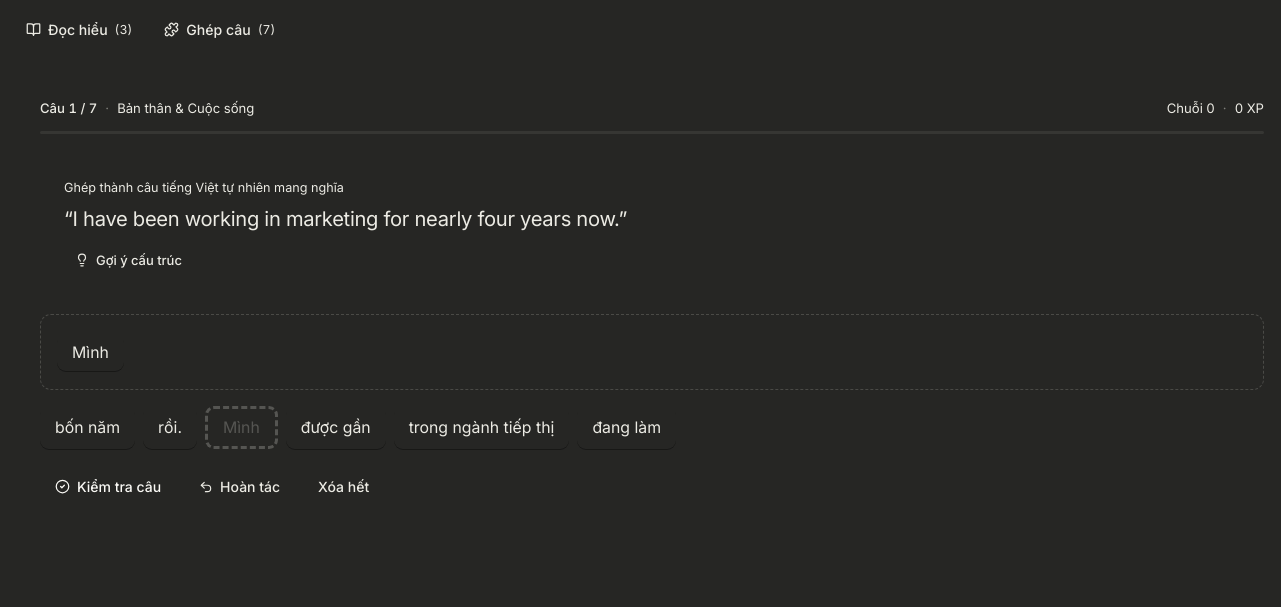
Test case: ReadingVocabGame › assembles Vietnamese sentences in Sentence Builder Sprint and completes round
Earlier steps of the test are not shown.
Later steps or results of the test are not shown.
Click the button "đang làm" at (627, 428), box [577,406,676,449]
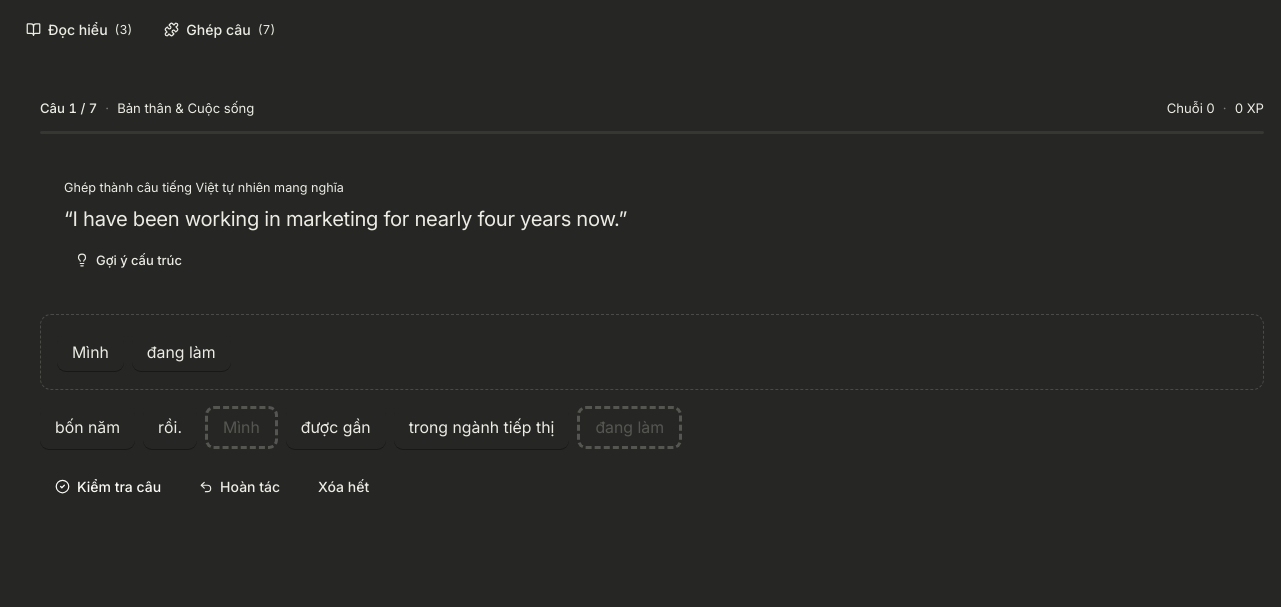
Click the button "trong ngành tiếp thị" at (482, 428), box [394,406,569,449]
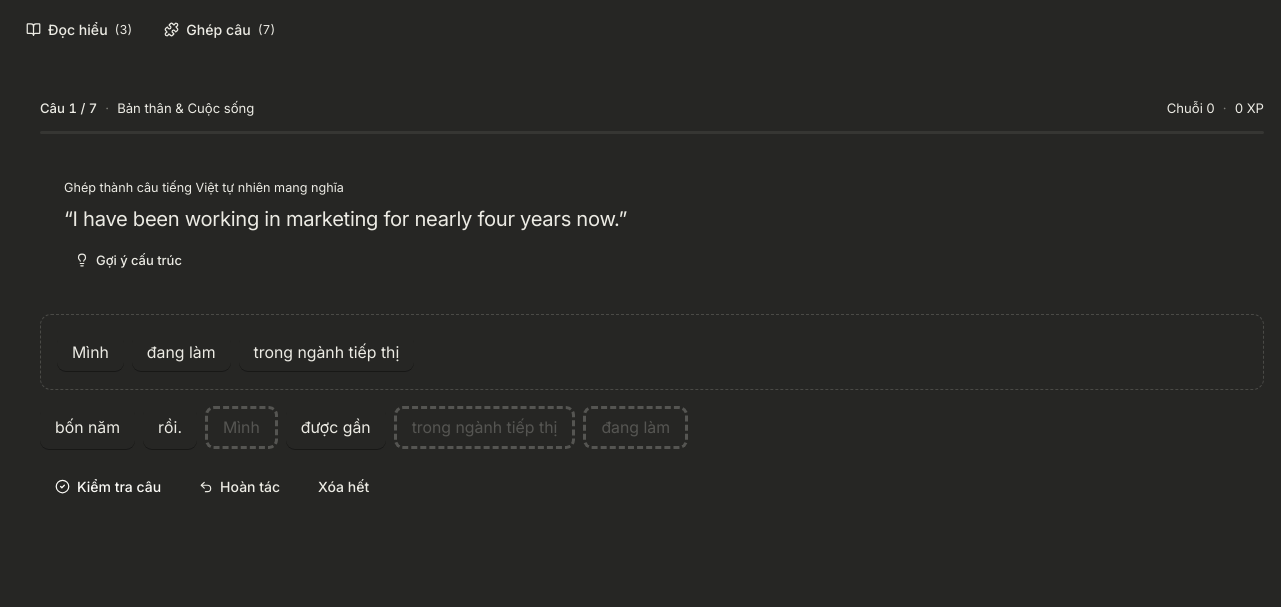
Click the button "được gần" at (336, 428), box [286,406,386,449]
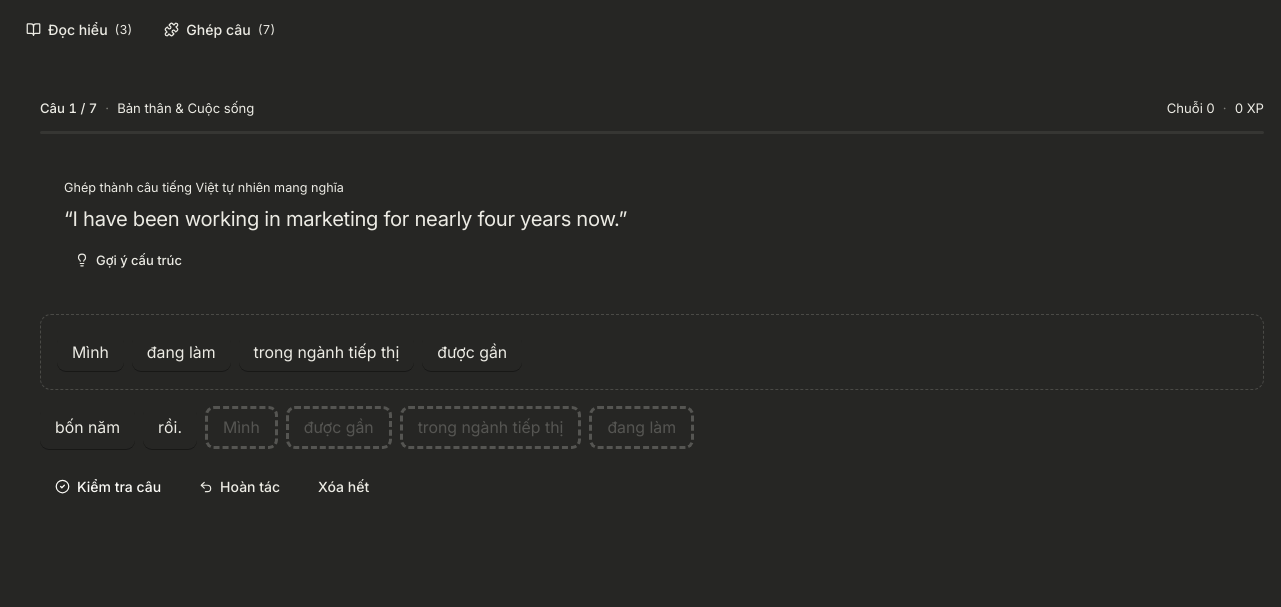
Click the button "bốn năm" at (88, 428), box [40,406,135,449]
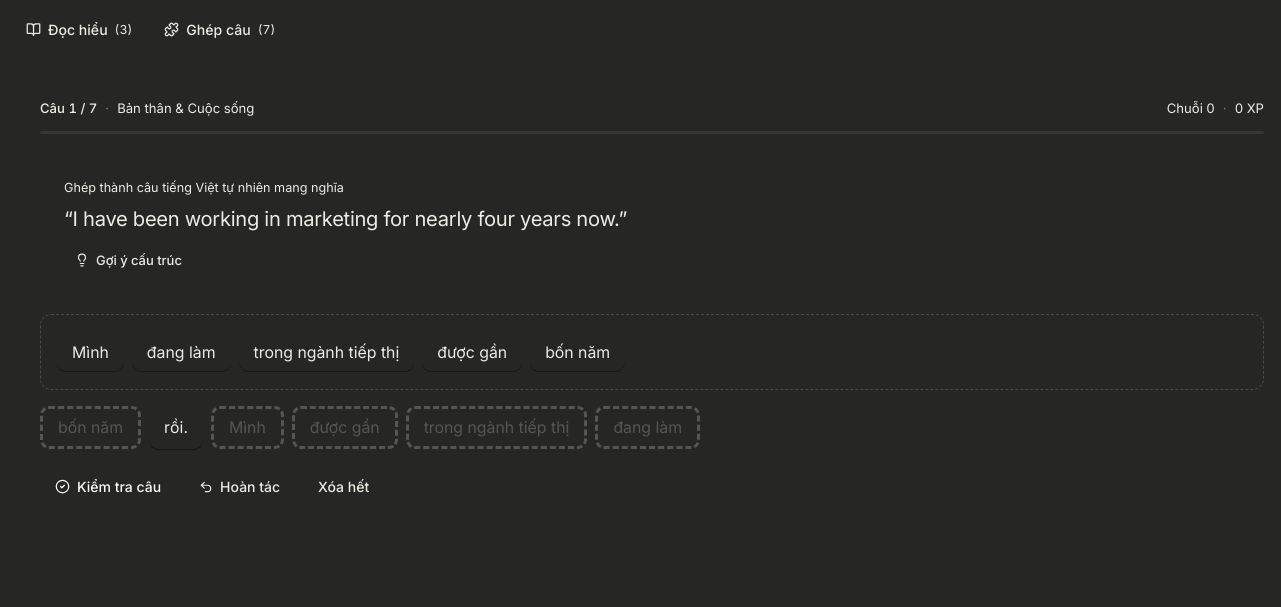
Click the button "rồi." at (176, 428), box [149,406,203,449]
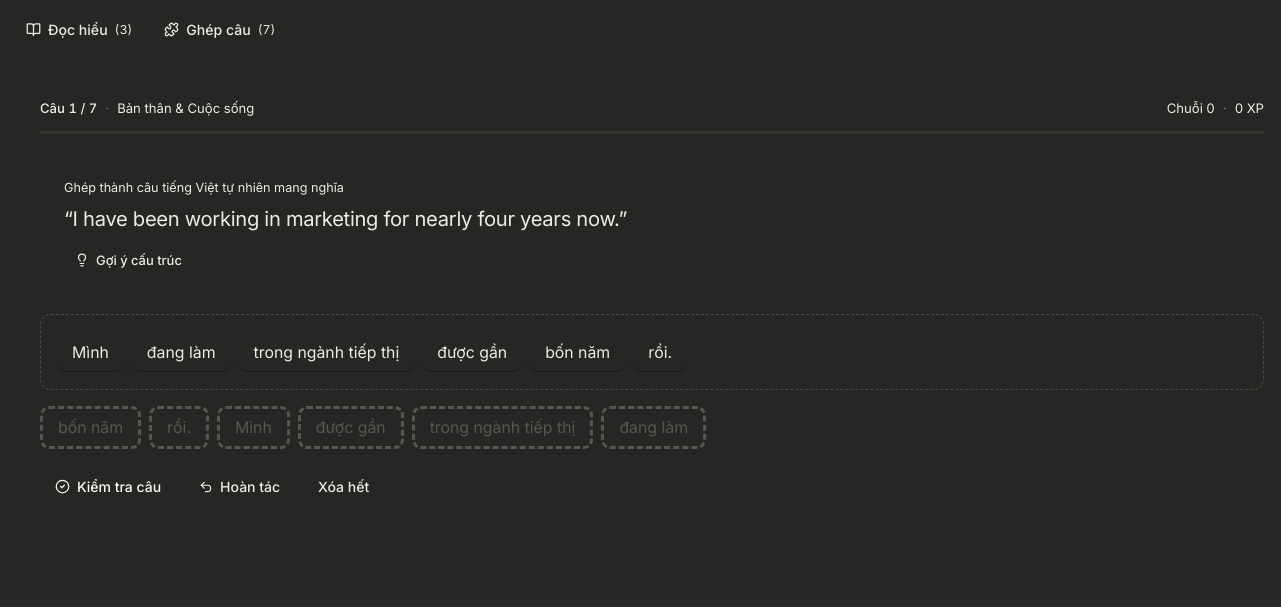
Click the button with test id "builder-check-btn" at (108, 487), box [40,469,176,505]
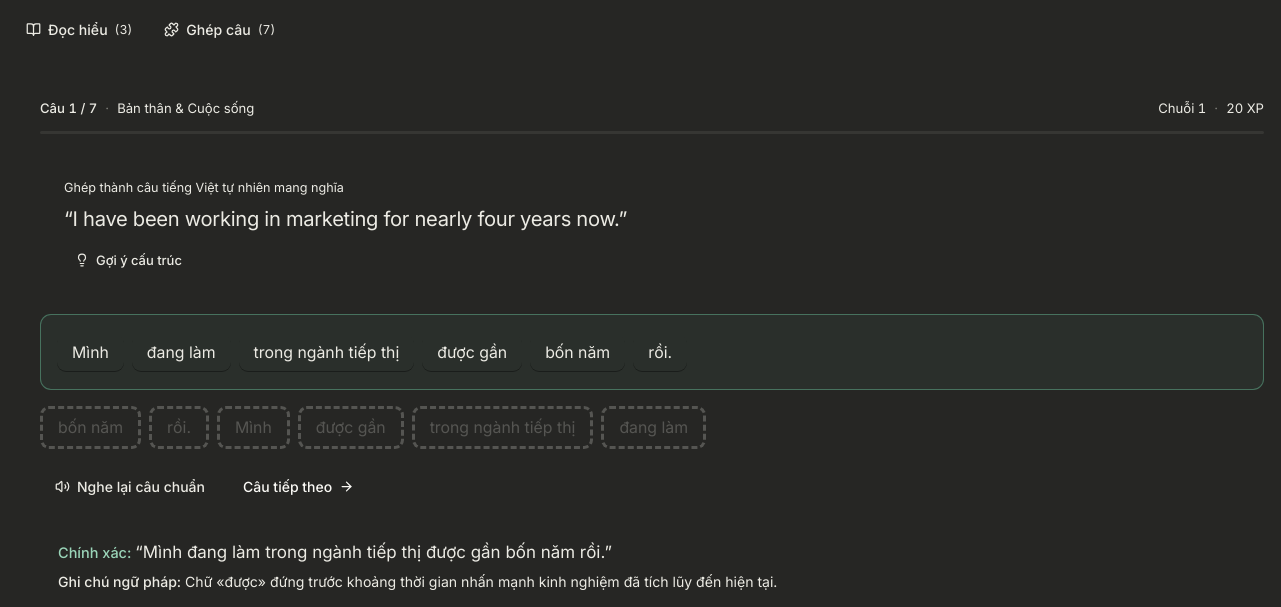
Expected: the element with test id "builder-feedback" is shown, [58,542,777,590]
